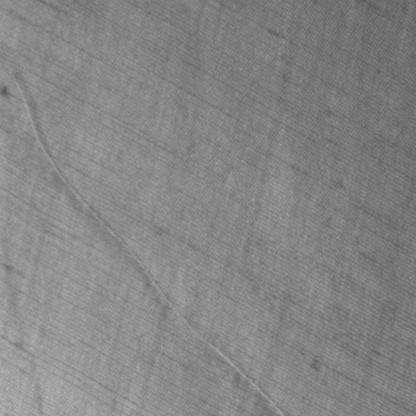objects: (9, 70, 292, 415)
